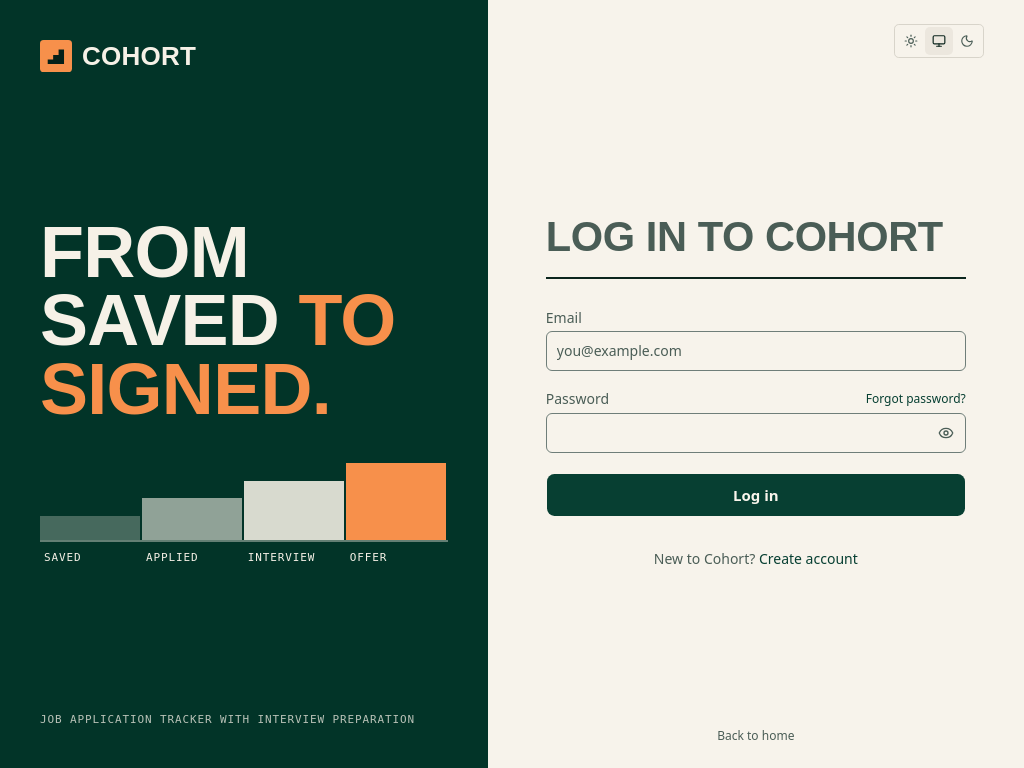
Test: auth pages › validates the email inline when the field loses focus
In the field labelled "Email": (756, 351) [546,331,966,371], type "not-an-email"
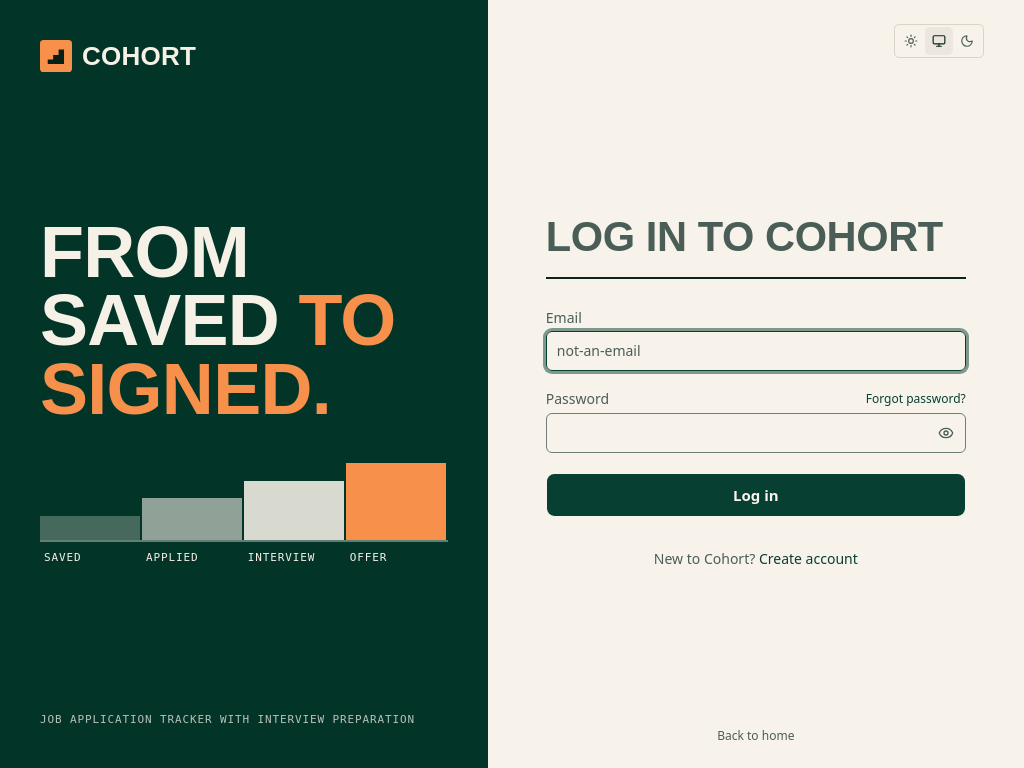
Press Tab
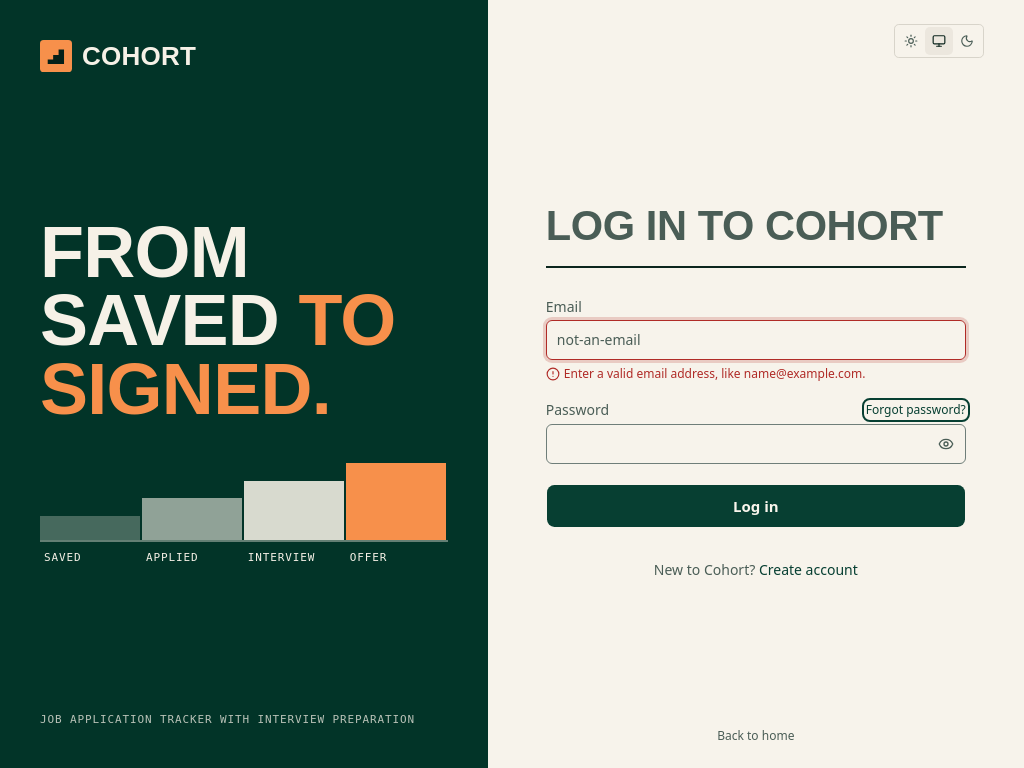
Check: the text "Enter a valid email address, like name@example.com." is shown, box [546,365,865,382]
